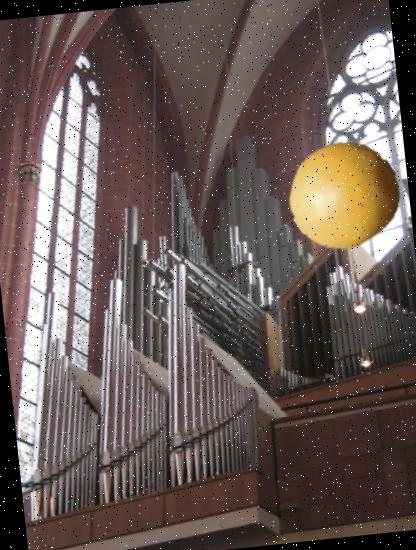Grapefruit: (282, 134, 404, 256)
